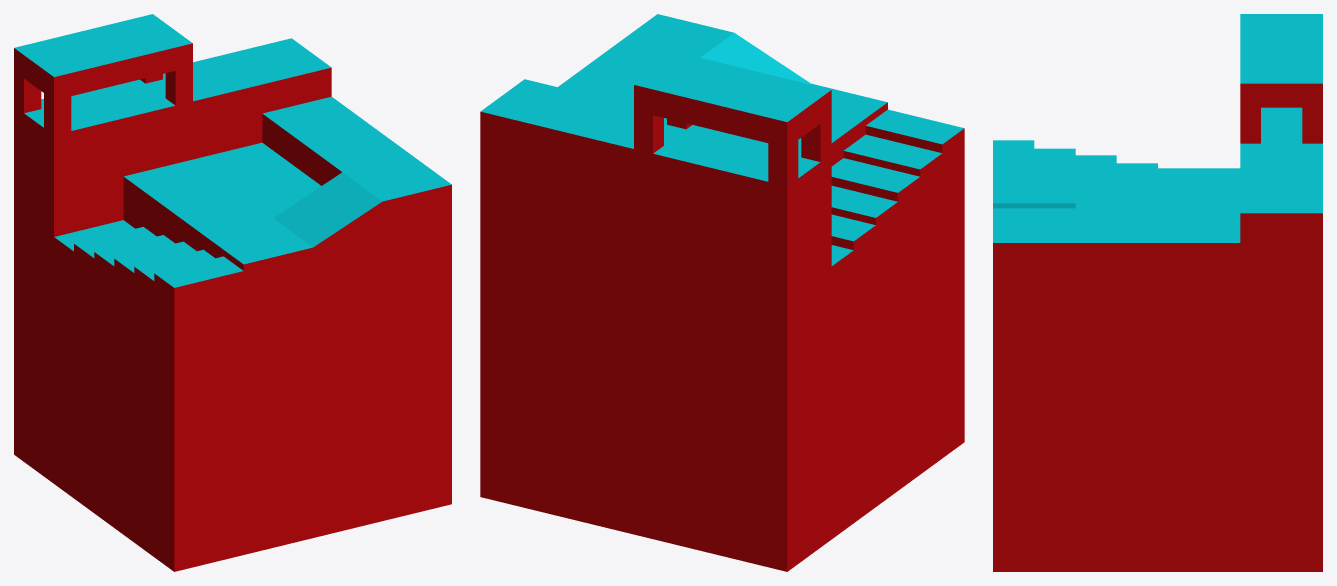
The model's file is SbS_Level_01.fbx.
The picture shows the model from 3 angles, left to right: view 1: azimuth 30°, elevation 25°; view 2: azimuth 150°, elevation 25°; view 3: azimuth 270°, elevation 25°; orthographic projection. The views are drawn at different scales.
Visible parts, largest first — view 1: SbS_Level_01; view 2: SbS_Level_01; view 3: SbS_Level_01.
Part boxes in pixels (bbox=[...]): SbS_Level_01: bbox=[14, 14, 451, 571]; SbS_Level_01: bbox=[480, 14, 964, 571]; SbS_Level_01: bbox=[993, 14, 1322, 571].
Size of the model in its own units: 1000 by 1400 by 1000.
